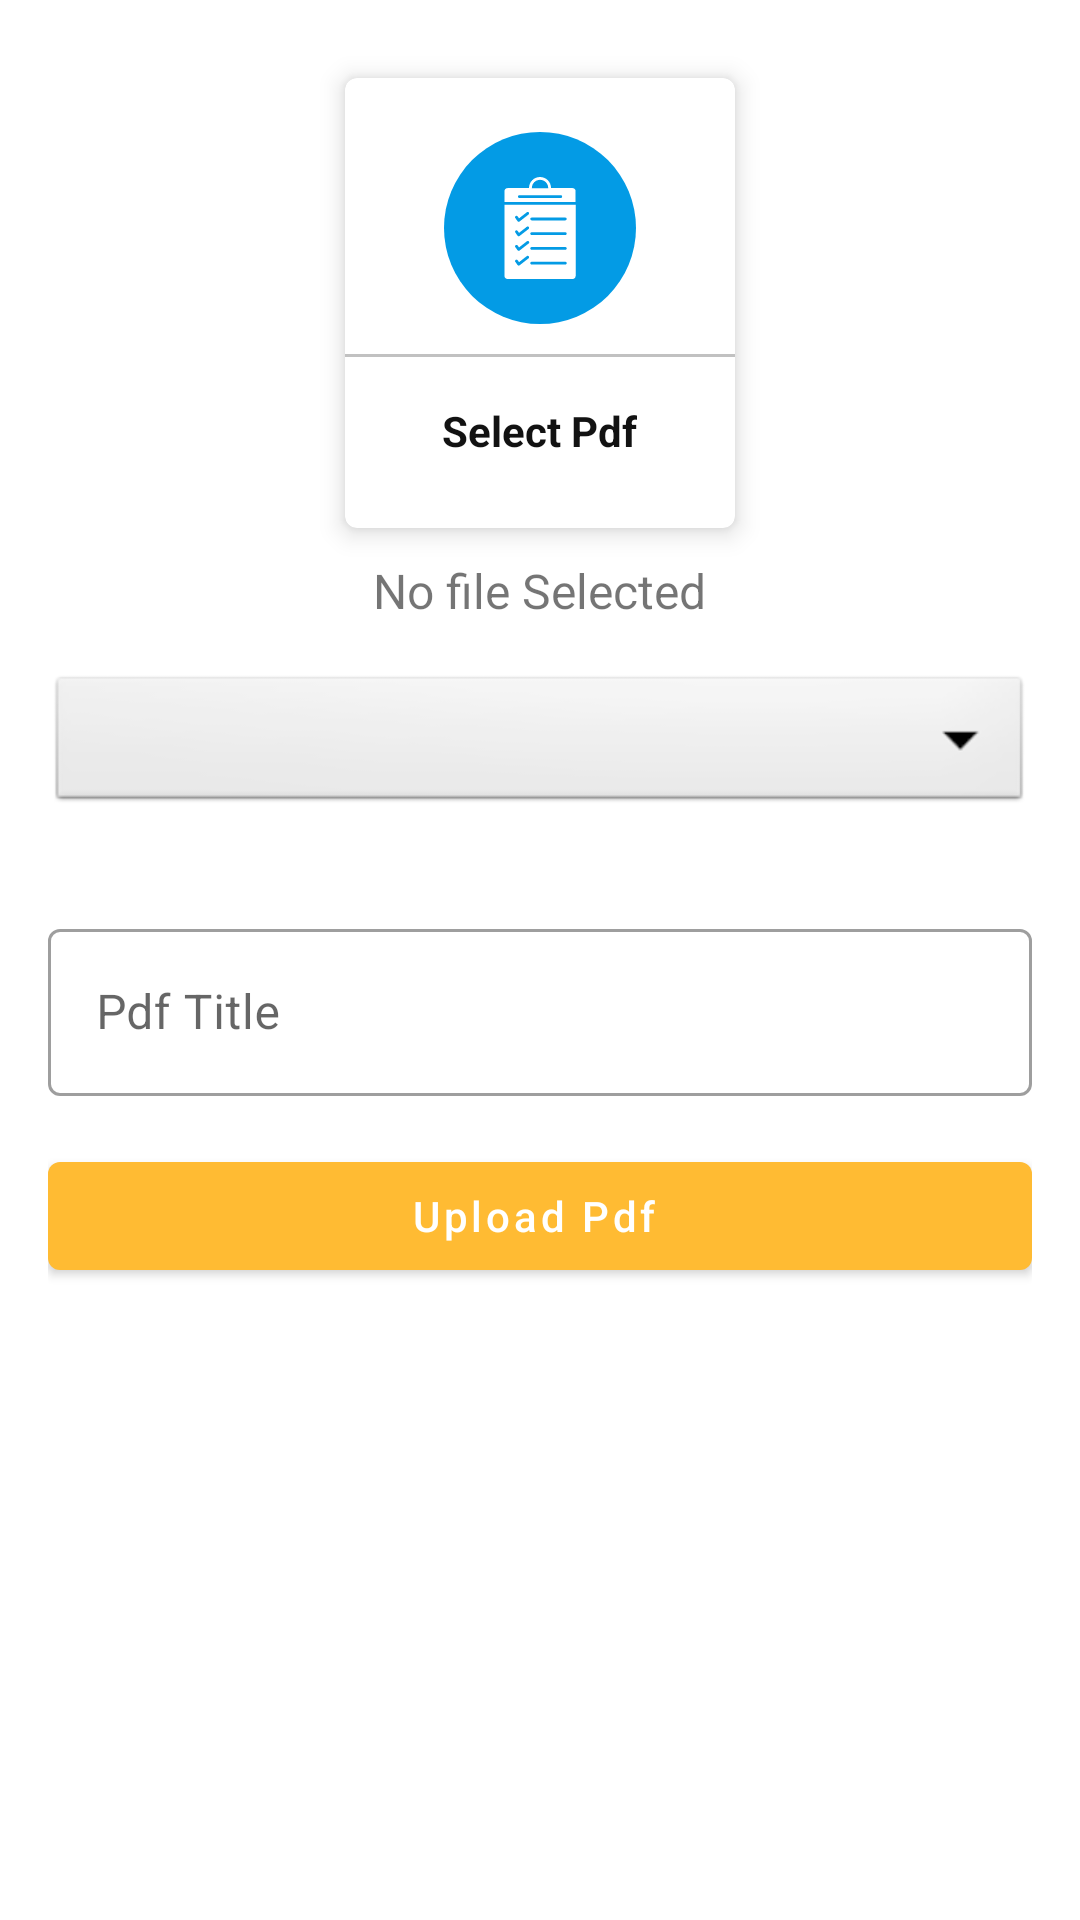

Locate icon controls on the screen. Image size 1080px×1920px, boxes as [left=x1, top=y1, right=x2, bottom=y2].
results: [left=444, top=132, right=636, bottom=324]
